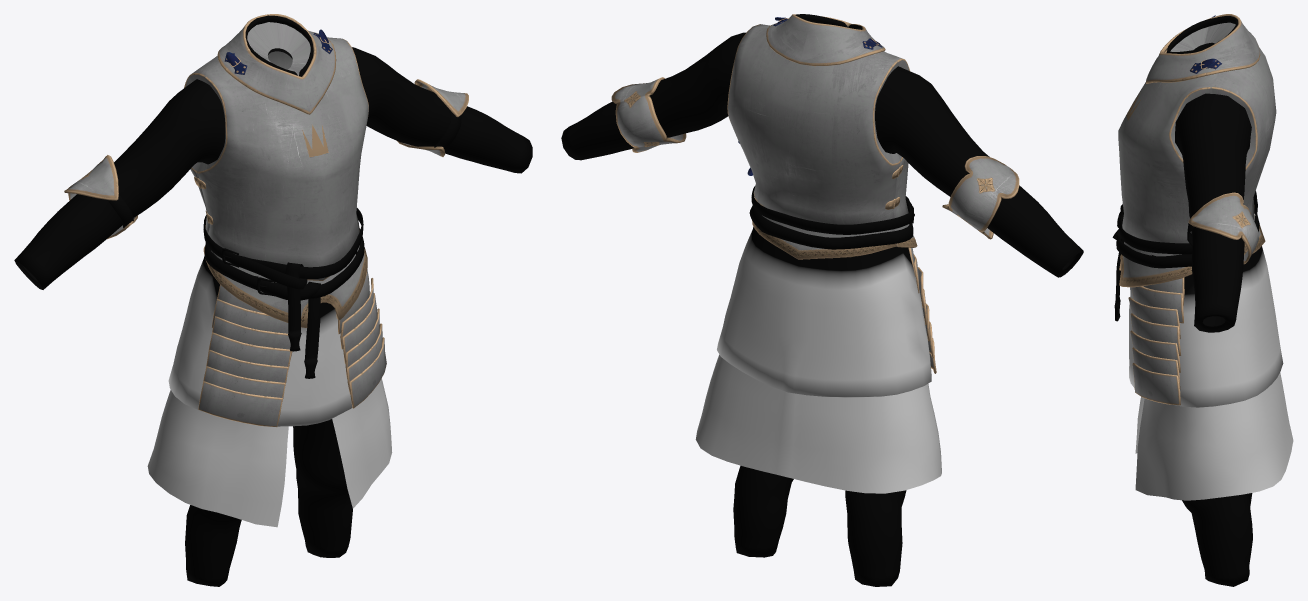
The model's file is swan_knight_armor_2a_t3.fbx.
The picture shows the model from 3 angles, left to right: view 1: azimuth 30°, elevation 25°; view 2: azimuth 150°, elevation 25°; view 3: azimuth 270°, elevation 25°; orthographic projection. The views are drawn at different scales.
Parts seen in each view (by area): view 1: swan_knight_armor_2a_t3.0, swan_knight_armor_2a_t3.1; view 2: swan_knight_armor_2a_t3.0, swan_knight_armor_2a_t3.1; view 3: swan_knight_armor_2a_t3.0, swan_knight_armor_2a_t3.1.
Part boxes in pixels (x1=…): swan_knight_armor_2a_t3.0: x1=14, y1=15, x2=532, y2=586; swan_knight_armor_2a_t3.1: x1=64, y1=14, x2=468, y2=427; swan_knight_armor_2a_t3.0: x1=561, y1=14, x2=1083, y2=586; swan_knight_armor_2a_t3.1: x1=611, y1=14, x2=1019, y2=373; swan_knight_armor_2a_t3.0: x1=1112, y1=16, x2=1293, y2=586; swan_knight_armor_2a_t3.1: x1=1118, y1=14, x2=1276, y2=405.
Size of the model in its own units: 1.34 by 0.424 by 1.37.
